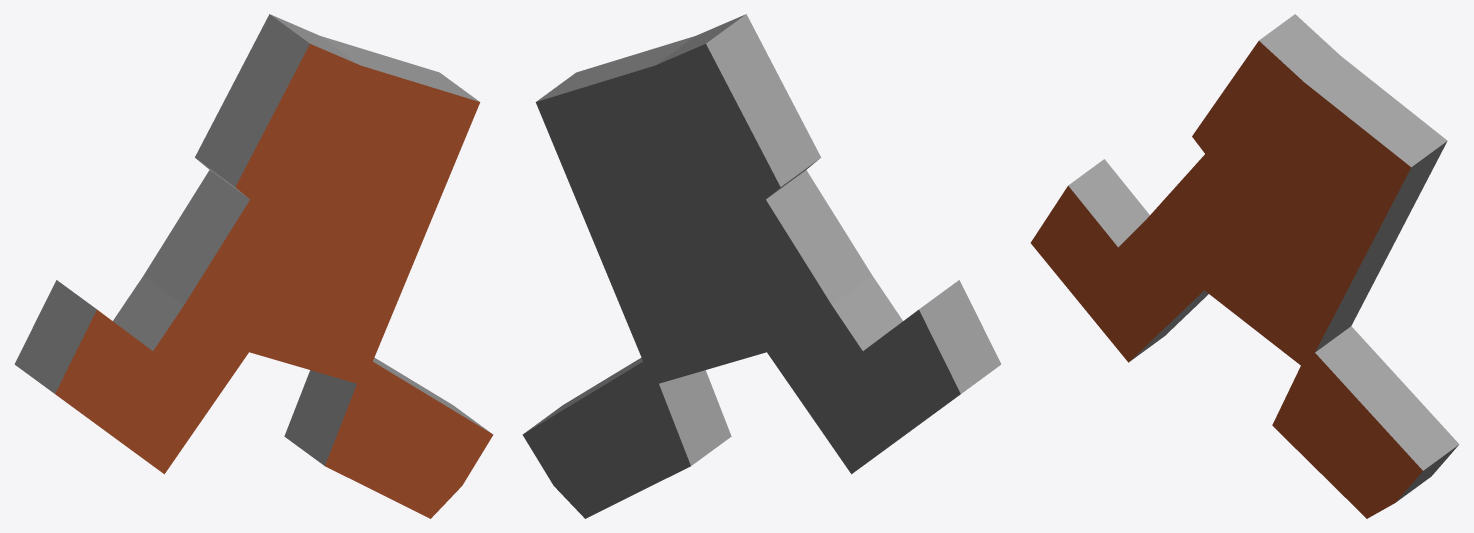
Rendered from construction_6317_assumed_A_Casa_h6m.obj.
3 views of the same model, side by side, from view 1: azimuth 30°, elevation 25°; view 2: azimuth 150°, elevation 25°; view 3: azimuth 330°, elevation 25° (orthographic). The views are drawn at different scales.
Visible parts, largest first — view 1: construction_6317_assumed_A_Casa; view 2: construction_6317_assumed_A_Casa; view 3: construction_6317_assumed_A_Casa.
Part boxes in pixels (x1,y1,x2,y2): construction_6317_assumed_A_Casa: (14,14,493,518); construction_6317_assumed_A_Casa: (522,14,1001,518); construction_6317_assumed_A_Casa: (1030,14,1459,518).
Bounding box in the file's own units: 37.43 × 41.17 × 6.
